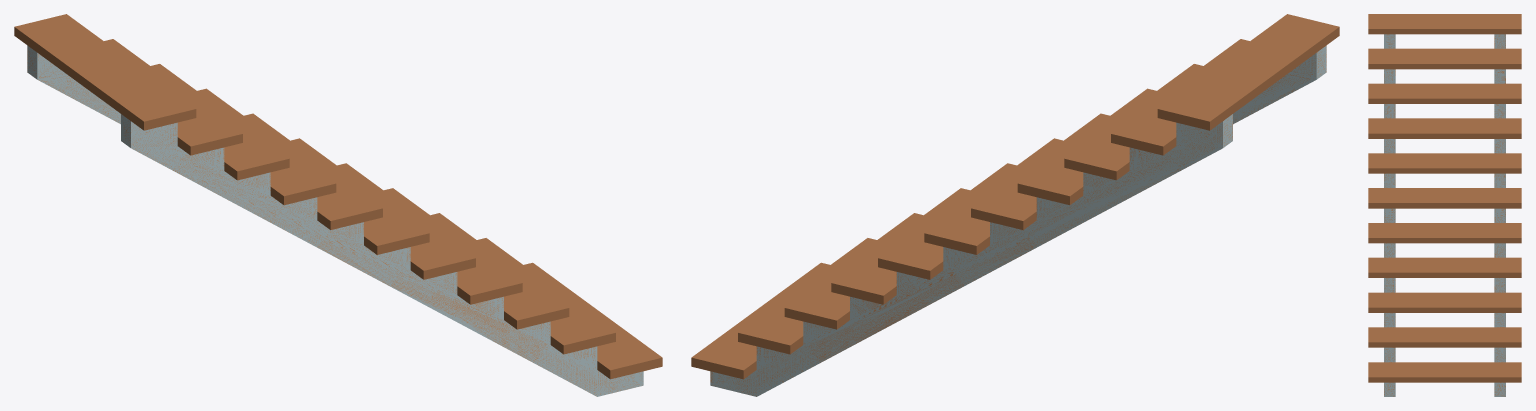
The model's file is stairs.glb.
The picture shows the model from 3 angles, left to right: view 1: azimuth 30°, elevation 25°; view 2: azimuth 150°, elevation 25°; view 3: azimuth 270°, elevation 25°; orthographic projection. The views are drawn at different scales.
Parts seen in each view (by area): view 1: stairsOpen, Group, Group_1; view 2: stairsOpen, Group_1, Group; view 3: stairsOpen, Group, Group_1.
Boxes of the visible parts, <box> form: stairsOpen: <box>14,14,662,379</box>; Group: <box>121,114,643,396</box>; Group_1: <box>27,45,120,124</box>; stairsOpen: <box>691,14,1339,379</box>; Group_1: <box>710,114,1232,396</box>; Group: <box>1233,45,1326,124</box>; stairsOpen: <box>1368,14,1521,382</box>; Group: <box>1384,34,1395,396</box>; Group_1: <box>1494,34,1505,396</box>.
Size of the model in its own units: 1.82 by 1.34 by 0.79.
